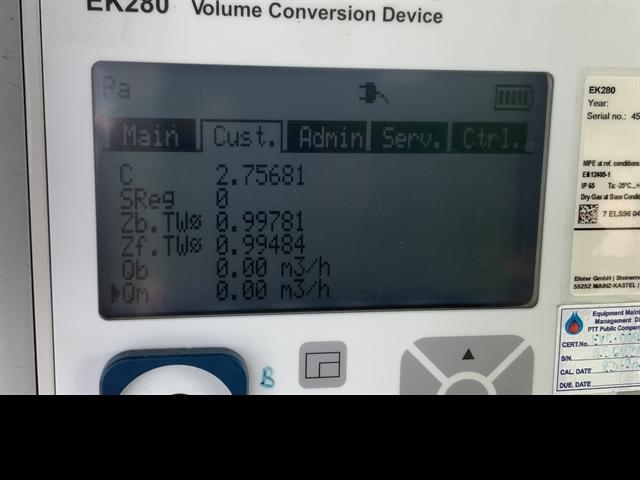digital_screen: (92, 56, 556, 318)
